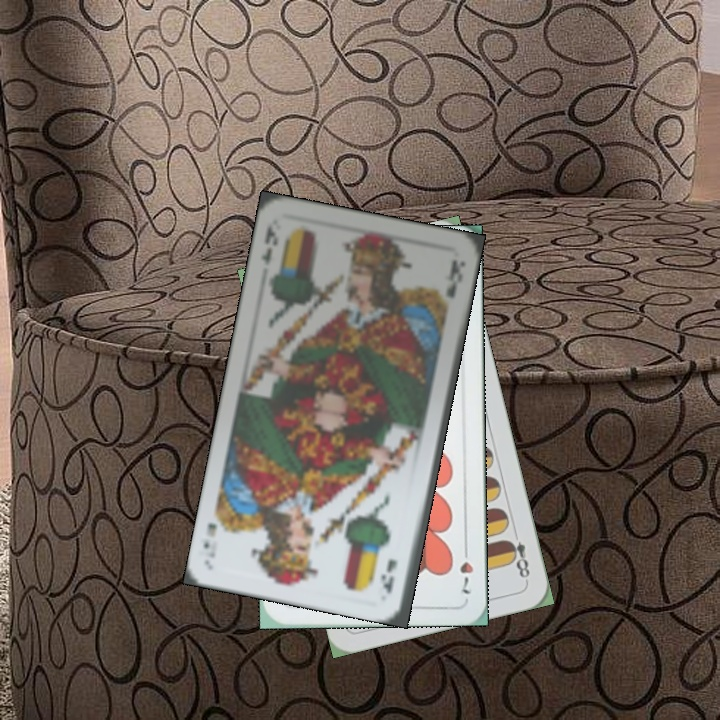E8: (502, 525, 533, 584)
EK: (257, 218, 281, 268), (379, 555, 400, 597)
H7: (456, 540, 476, 596)
